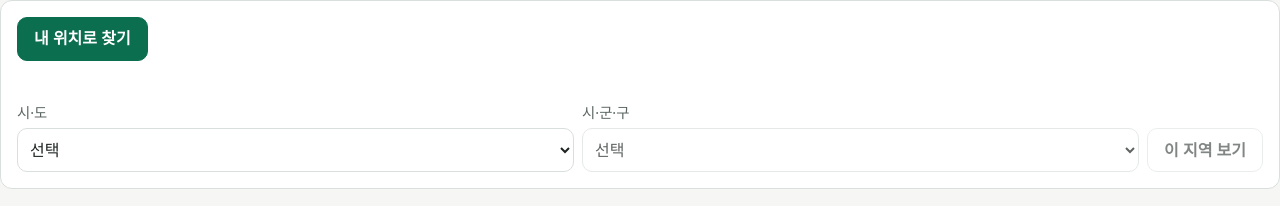
Test: LocationPicker › 위치 권한이 거부되면 지역 선택을 안내한다
The image size is (1280, 206).
What coordinates should you click on to do the following:
click the button "내 위치로 찾기"
I would click on:
 (82, 39)
Its box is [17,17,148,61].
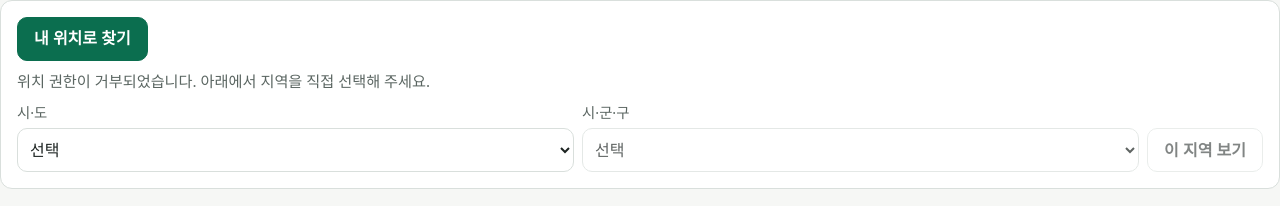
Check: the message shows "위치 권한이 거부되었습니다", box [17,71,430,91]
